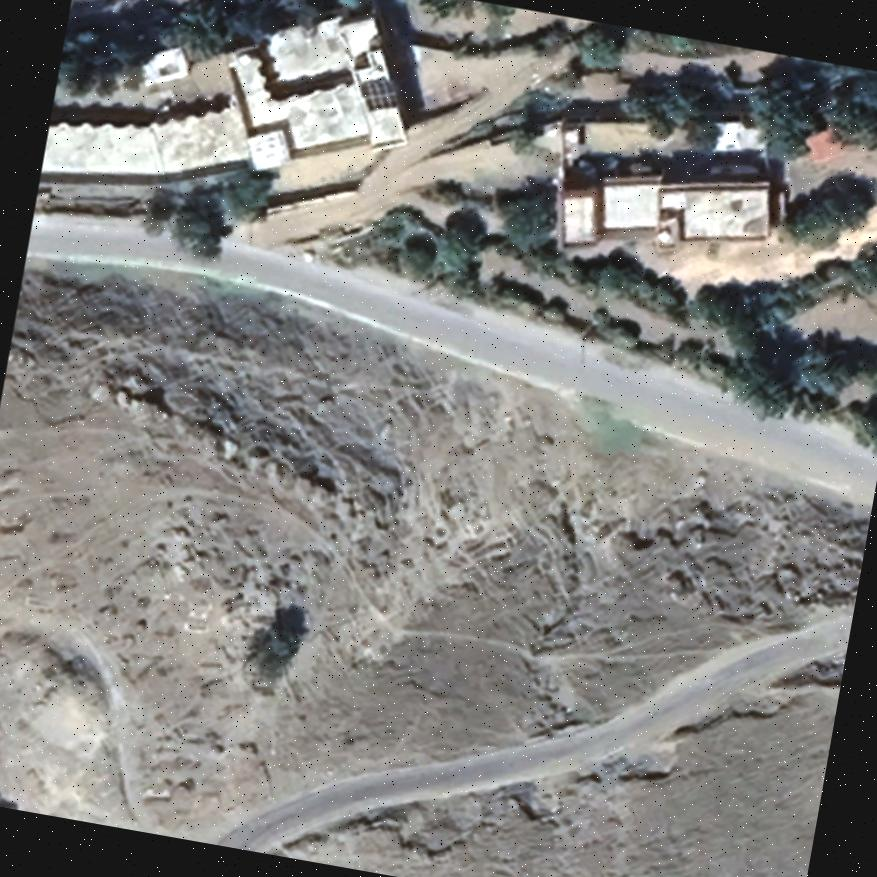Solarpanel: (352, 68, 406, 119)
